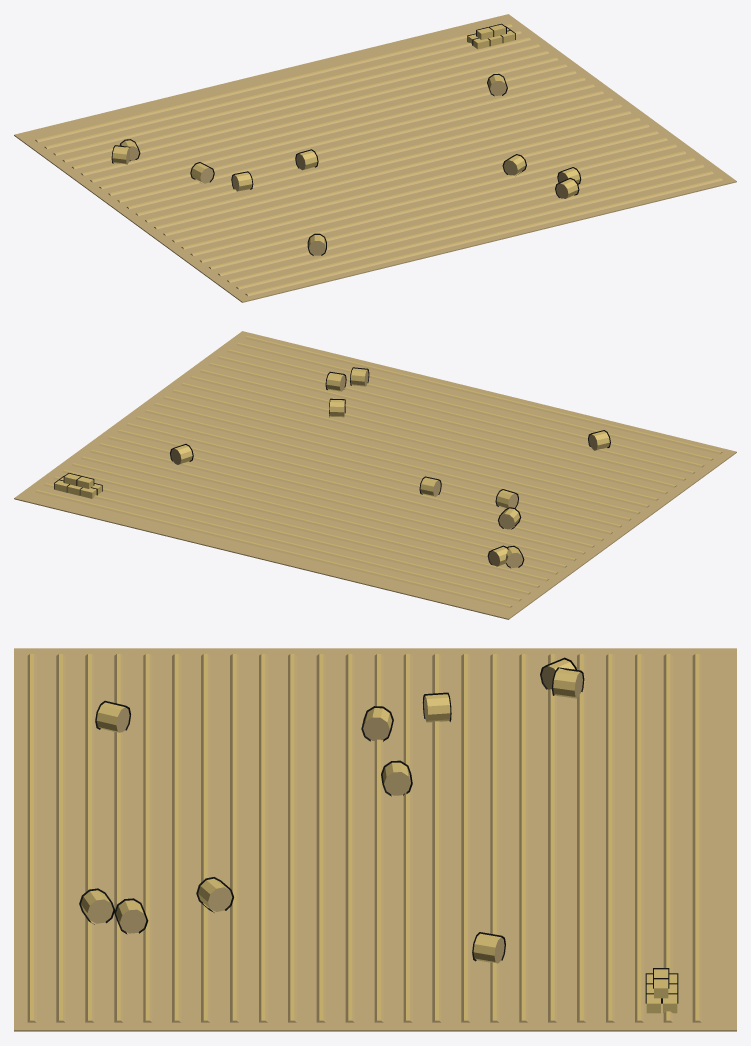
File: Kir_alan_saman_2.fbx
The picture shows the model from 3 angles, top to bottom: view 1: azimuth 30°, elevation 25°; view 2: azimuth 150°, elevation 25°; view 3: azimuth 270°, elevation 25°; orthographic projection. The views are drawn at different scales.
Parts seen in each view (by area): view 1: Kir_alan_saman_2; view 2: Kir_alan_saman_2; view 3: Kir_alan_saman_2.
Boxes of the visible parts, bbox=[...] form: Kir_alan_saman_2: bbox=[14, 14, 736, 302]; Kir_alan_saman_2: bbox=[14, 331, 736, 619]; Kir_alan_saman_2: bbox=[14, 648, 736, 1031].
Bounding box in the file's own units: 50 × 1.65 × 40.
